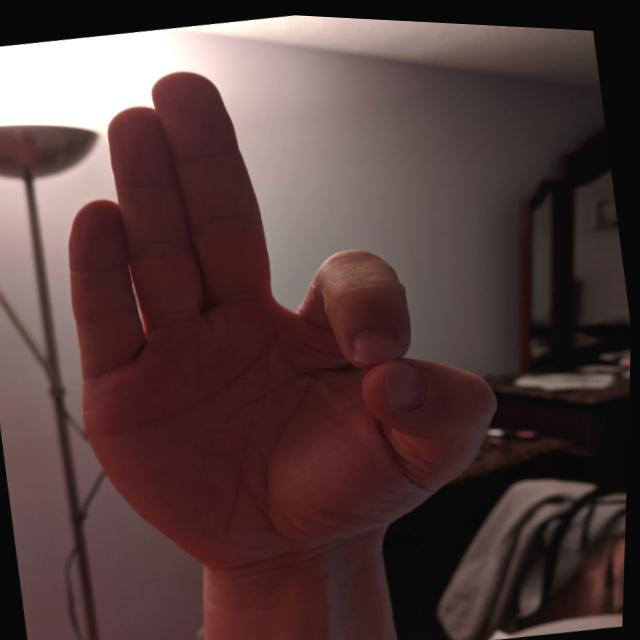F: (26, 17, 534, 601)
